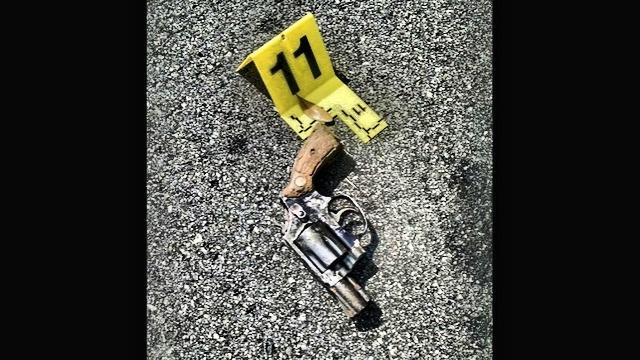pistol: (261, 120, 391, 324)
